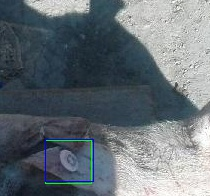text: (45, 140, 91, 183)
